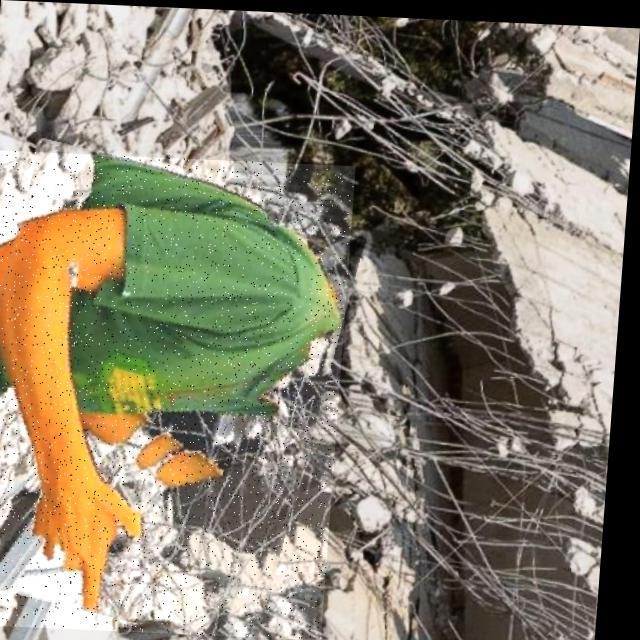Person in Rubble: (0, 150, 357, 637)
